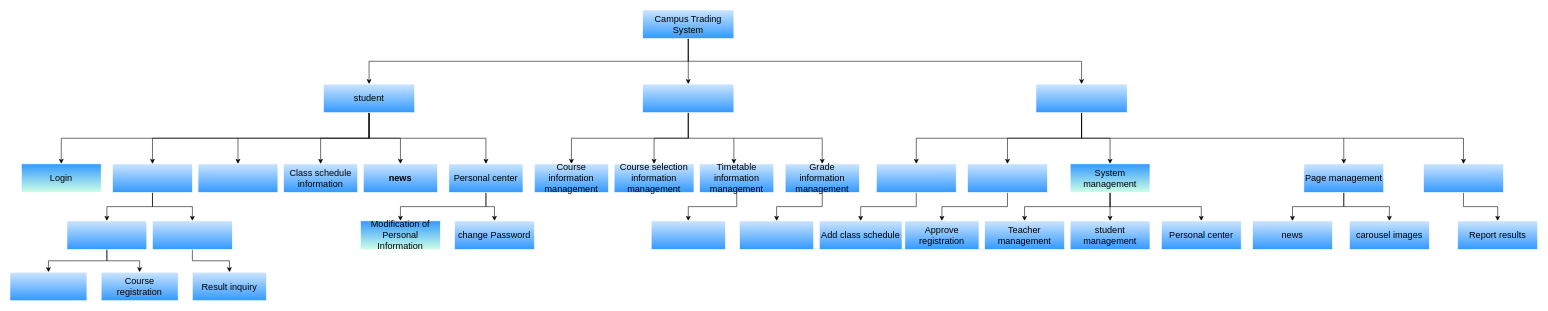
Image size: 1548x311. Some labels were removed from this diagram. Each missing label, with the box of its shape:
Administrator: (1035, 84, 1127, 113)
background information: (112, 163, 192, 192)
Check class schedule: (651, 220, 725, 249)
course information: (198, 163, 278, 192)
Course inquiry: (9, 272, 87, 301)
Course selection information: (66, 220, 147, 249)
Course selection management: (967, 163, 1047, 192)
Grade information: (152, 220, 232, 249)
Score management: (1423, 163, 1503, 192)
teacher: (642, 84, 734, 113)
Timetable management: (876, 163, 956, 192)
Upload results: (739, 220, 814, 249)
